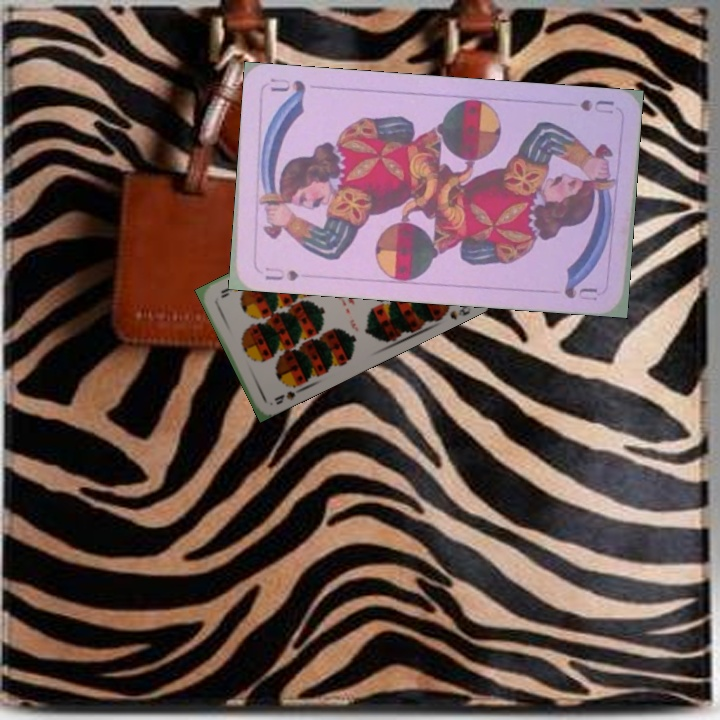S9: (270, 378, 306, 407)
SU: (261, 262, 301, 284), (576, 95, 616, 116)
